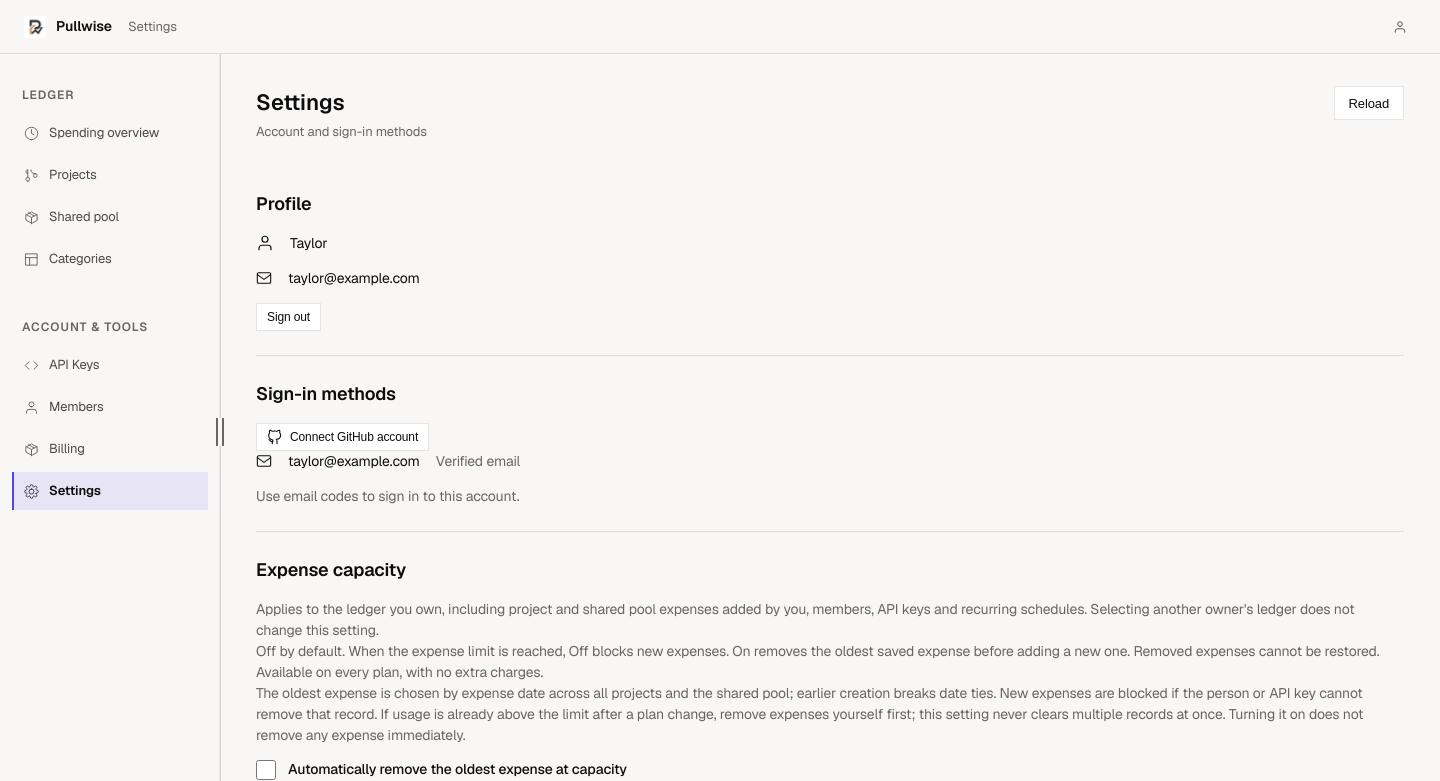
product settings › offers account linking to confirmed email accounts separately from repository installation
Click the button "Connect GitHub account". click: (343, 437)
box: [256,423,429,451]
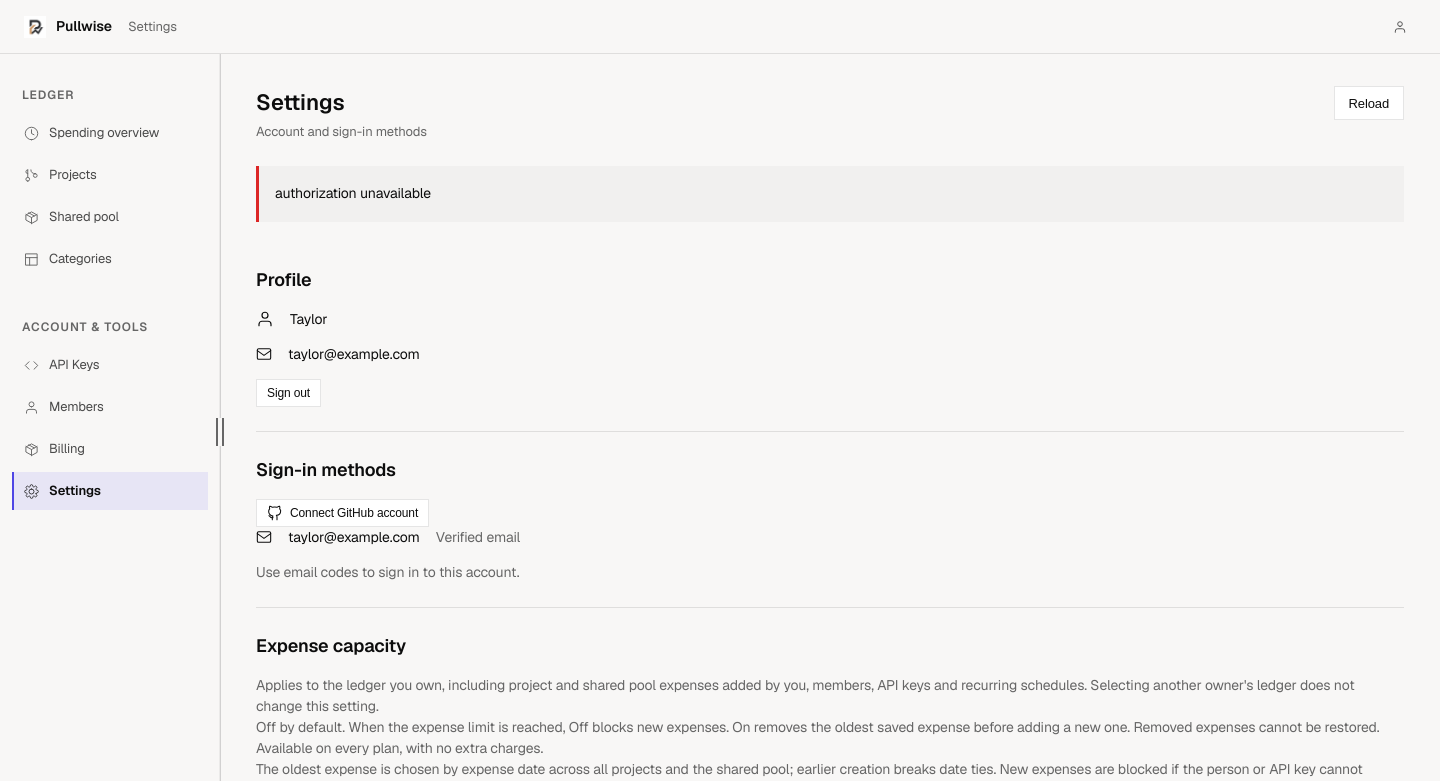
Expected: the message reads "authorization unavailable", [275,184,431,202]
